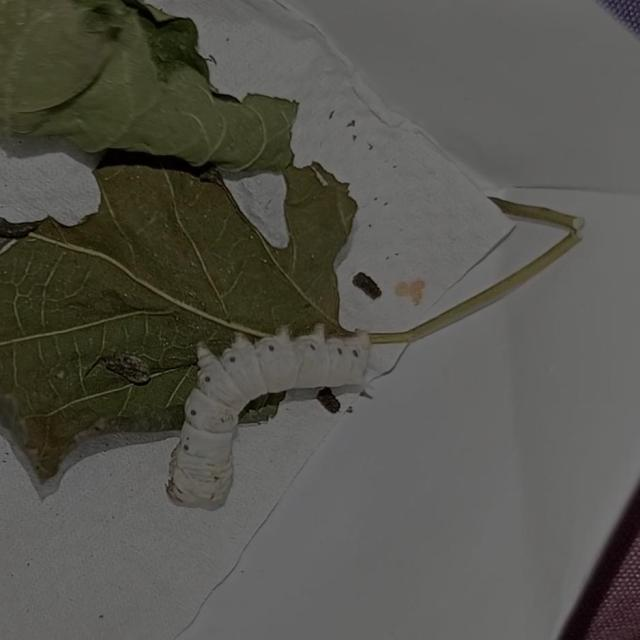Healthy: (142, 296, 414, 545)
